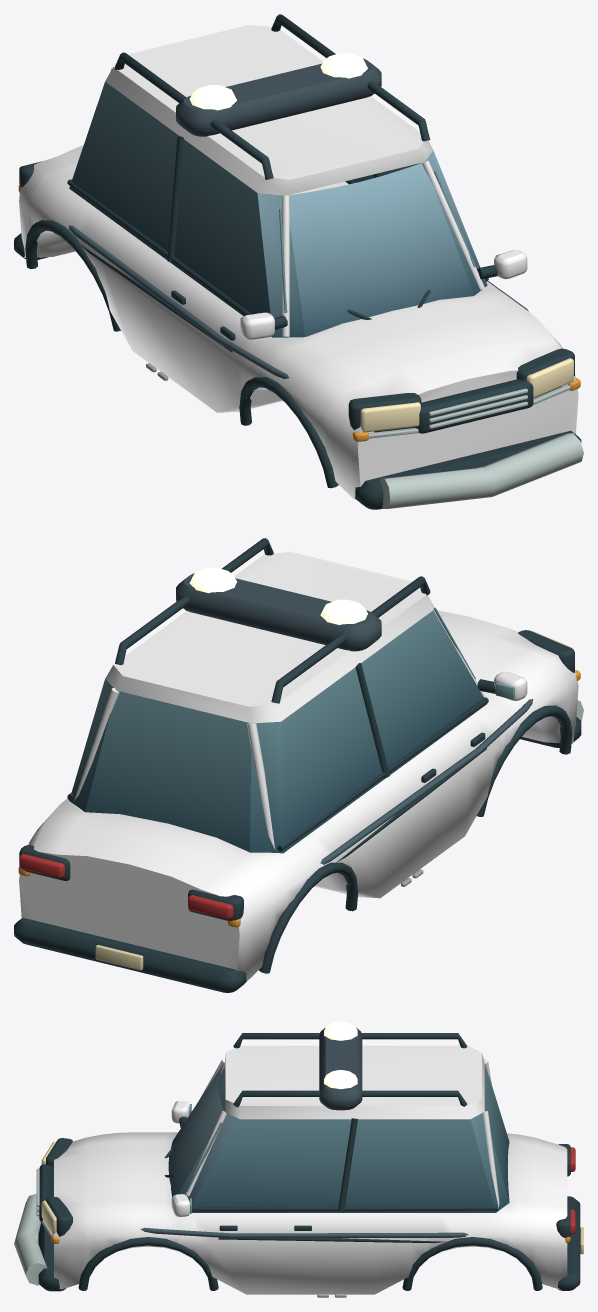
Rendered from boreal.glb.
3 views of the same model, one above another, from view 1: azimuth 30°, elevation 25°; view 2: azimuth 150°, elevation 25°; view 3: azimuth 270°, elevation 25° (orthographic). The views are drawn at different scales.
Parts seen in each view (by area): view 1: Chassis, Headlamps; view 2: Chassis, BrakeLamps; view 3: Chassis, Headlamps.
Boxes of the visible parts, x1,y1,x2,y2 form: Chassis: (14,14,583,509); Headlamps: (360,358,573,432); Chassis: (14,538,583,992); BrakeLamps: (19,854,233,919); Chassis: (14,1021,583,1297); Headlamps: (41,1141,56,1234).
Size of the model in its own units: 1.96 by 1.81 by 4.52.
